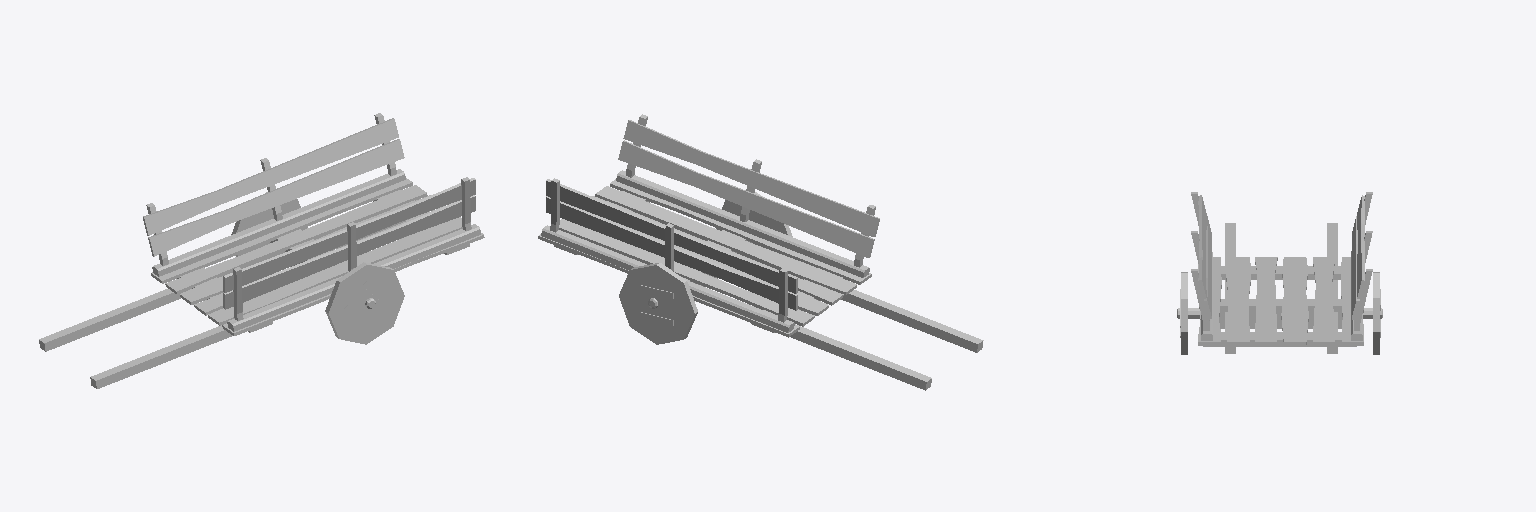
File: aWagon.obj
3 views of the same model, side by side, from view 1: azimuth 30°, elevation 25°; view 2: azimuth 150°, elevation 25°; view 3: azimuth 270°, elevation 25° (orthographic).
Parts seen in each view (by area): view 1: Cylinder.003_Cylinder.022; view 2: Cylinder.003_Cylinder.022; view 3: Cylinder.003_Cylinder.022.
Boxes of the visible parts, box(x1,y1,x2,y2) form: Cylinder.003_Cylinder.022: box(39, 113, 484, 388); Cylinder.003_Cylinder.022: box(538, 114, 983, 390); Cylinder.003_Cylinder.022: box(1177, 192, 1382, 354).
Size of the model in its own units: 0.8691 by 0.2995 by 0.4132.